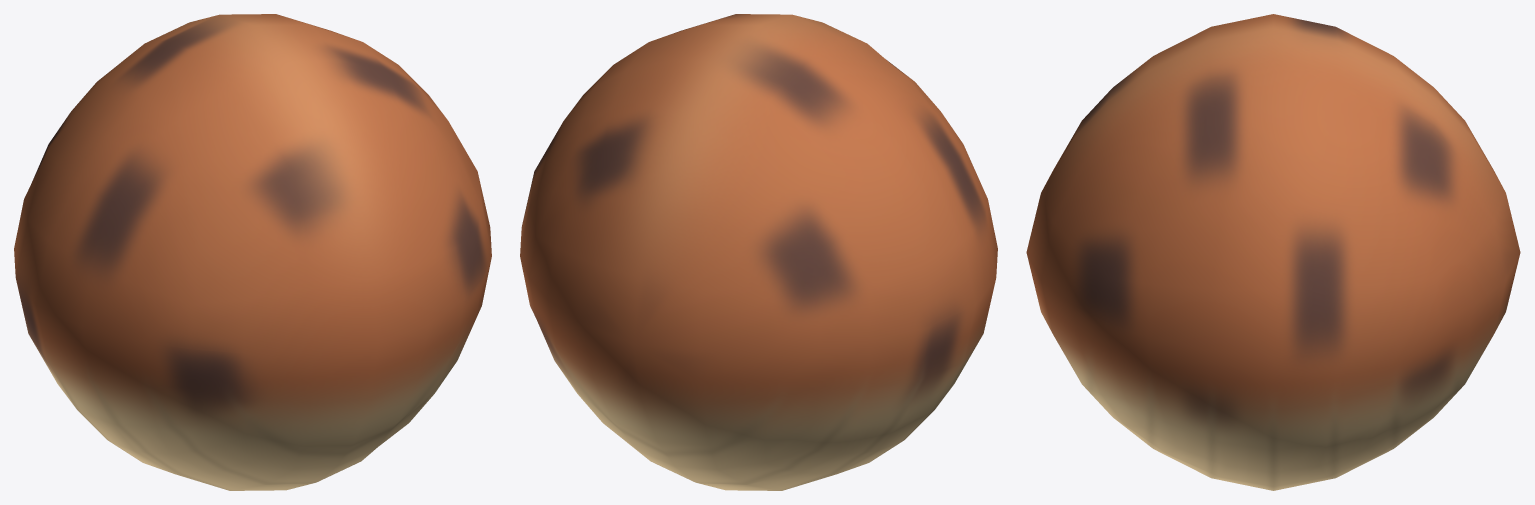
The model's file is SnakeBody.fbx.
The picture shows the model from 3 angles, left to right: view 1: azimuth 30°, elevation 25°; view 2: azimuth 150°, elevation 25°; view 3: azimuth 270°, elevation 25°; orthographic projection.
Parts seen in each view (by area): view 1: SnakeBody; view 2: SnakeBody; view 3: SnakeBody.
Part boxes in pixels (bbox=[...]): SnakeBody: bbox=[14, 14, 491, 490]; SnakeBody: bbox=[520, 14, 997, 490]; SnakeBody: bbox=[1026, 14, 1520, 490].
Size of the model in its own units: 59.86 by 59.86 by 59.86.
1 material, 1 textured.
